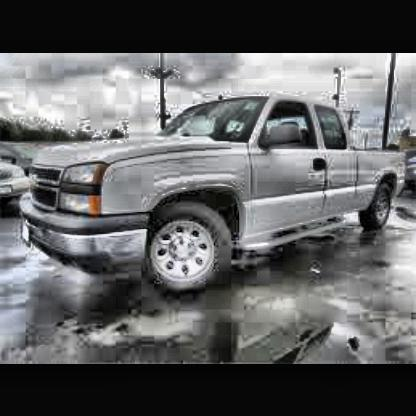Chevrolet Silverado 1500 Classic Extended Cab 2007: (22, 105, 407, 294)
